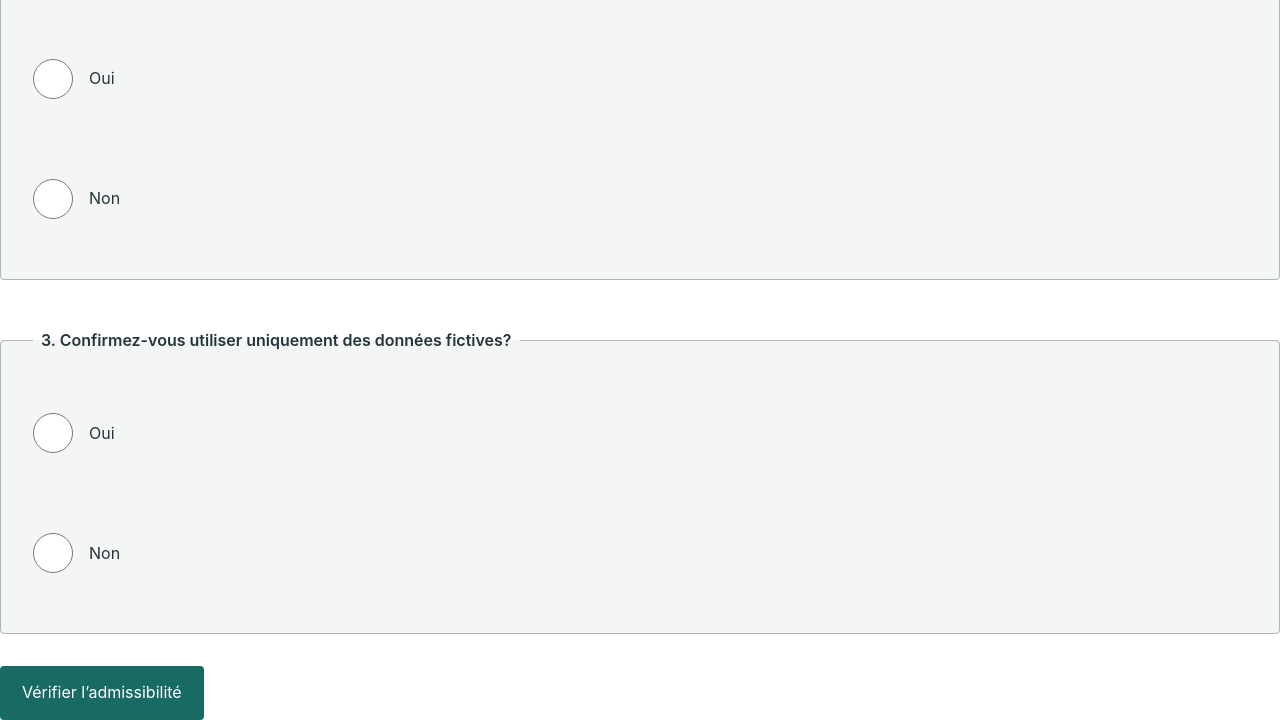
Test: VerificateurAdmissibilite › valide à l’action et place le focus sur les réponses manquantes
(page scrolled)
Click the button "Vérifier l’admissibilité".
click(102, 693)  # box [0, 666, 204, 719]
(page scrolled)
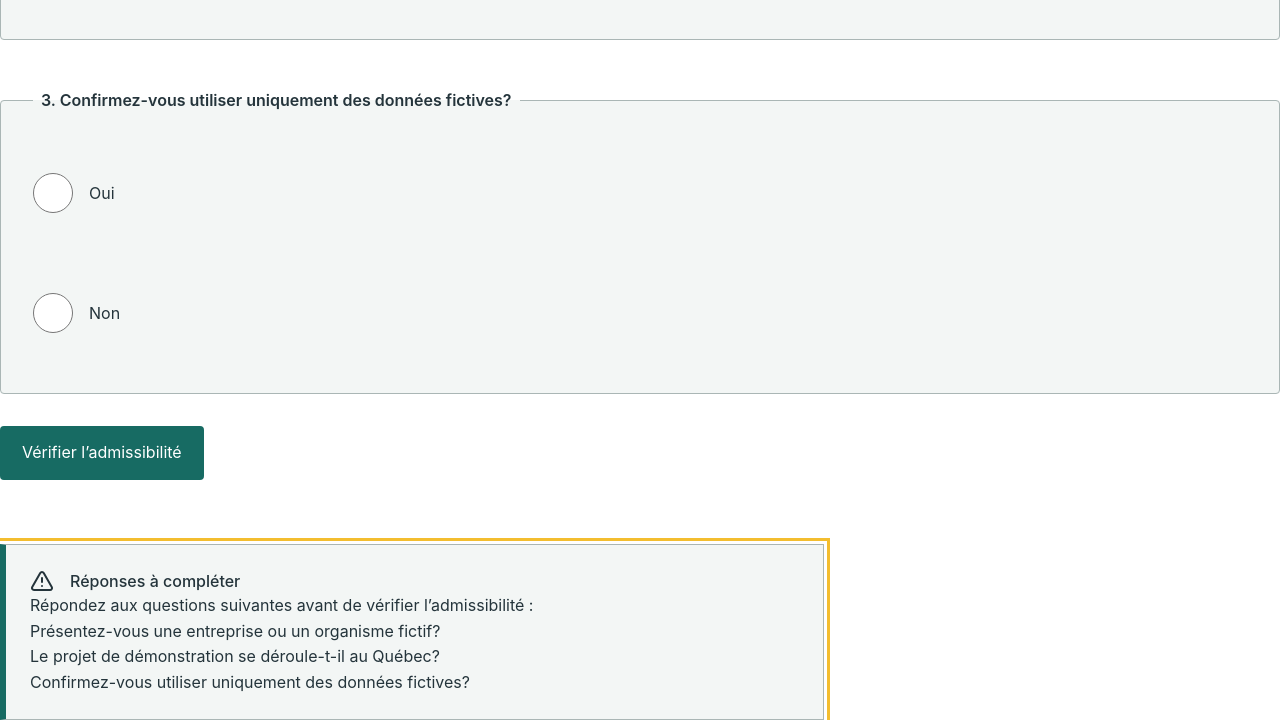
Expected: the message shows "Réponses à compléter", [70, 571, 240, 591]
